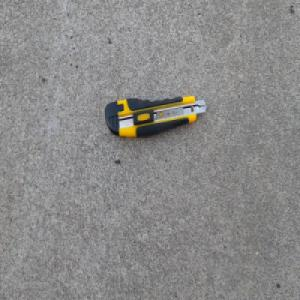Cutter: (102, 95, 207, 140)
